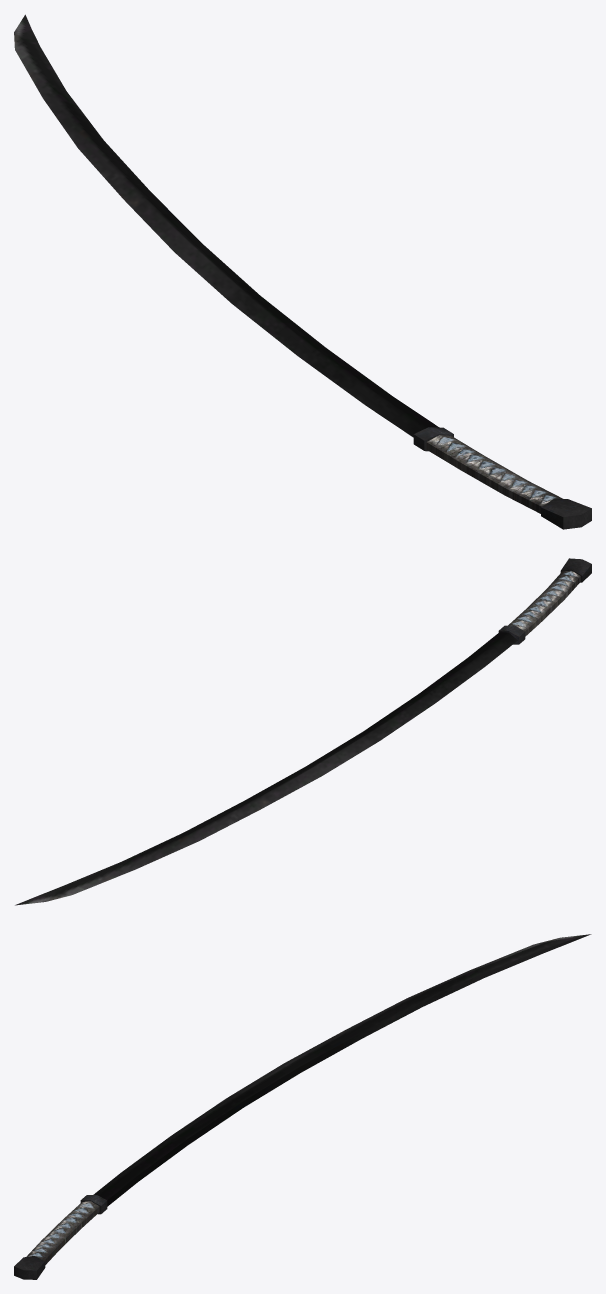
The model's file is sword_l_yasya_yasya1.glb.
3 views of the same model, one above another, from view 1: azimuth 30°, elevation 25°; view 2: azimuth 150°, elevation 25°; view 3: azimuth 330°, elevation 25° (orthographic). The views are drawn at different scales.
Size of the model in its own units: 0.2849 by 0.0342 by 2.23.
Materials: 1 (1 with a texture image).
